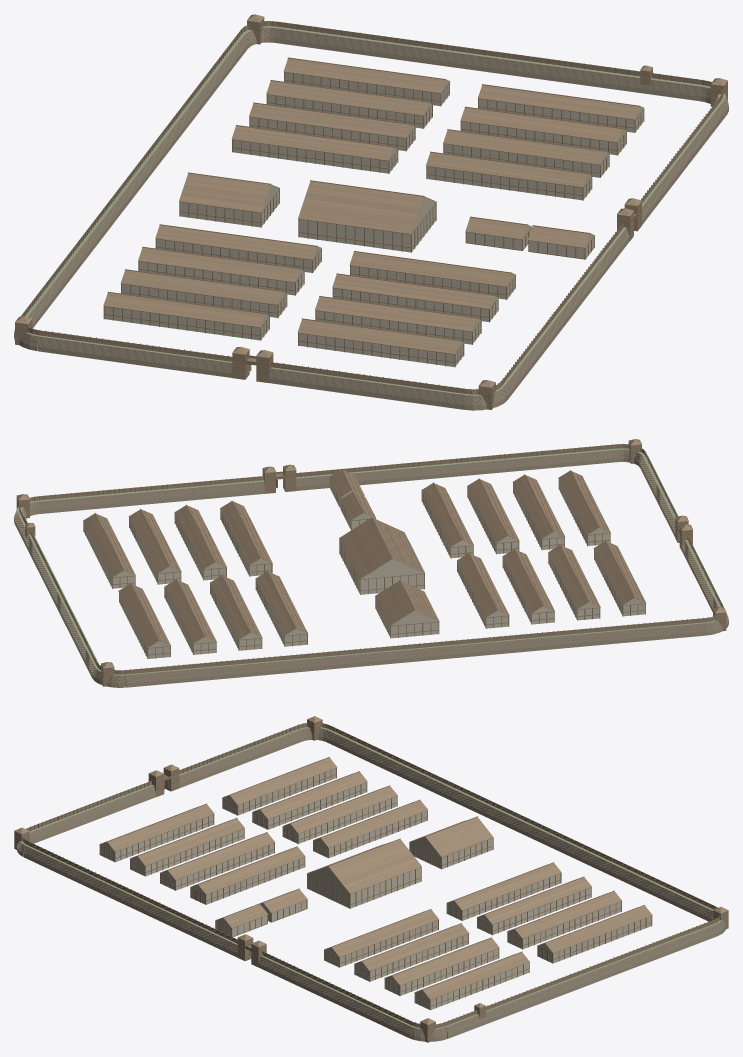
Rendered from roman-fort-a.near.glb.
3 views of the same model, one above another, from view 1: azimuth 30°, elevation 25°; view 2: azimuth 150°, elevation 25°; view 3: azimuth 270°, elevation 25° (orthographic). The views are drawn at different scales.
Visible parts, largest first — view 1: fort1/rampart-ne-0, fort1/principia-1, fort1/rampart-nw-1, fort1/barrack-16, fort1/barrack-1, fort1/barrack-15, fort1/barrack-2, fort1/praetorium-1, fort1/barrack-13, fort1/barrack-14, fort1/barrack-6, fort1/barrack-11 (+19 smaller); view 2: fort1/rampart-nw-1, fort1/principia-1, fort1/rampart-se-4, fort1/rampart-se-5, fort1/breastwork-nw-1, fort1/praetorium-1, fort1/rampart-ne-0, fort1/barrack-13, fort1/barrack-5, fort1/barrack-3, fort1/barrack-9, fort1/barrack-11 (+18 smaller); view 3: fort1/rampart-nw-1, fort1/principia-1, fort1/rampart-ne-0, fort1/rampart-se-4, fort1/praetorium-1, fort1/barrack-7, fort1/barrack-13, fort1/barrack-10, fort1/barrack-1, fort1/barrack-11, fort1/barrack-16, fort1/barrack-6 (+20 smaller).
Boxes of the visible parts, left/top/right/bottom form: fort1/rampart-ne-0: left=242, top=26, right=702, bottom=101; fort1/principia-1: left=298, top=180, right=436, bottom=252; fort1/rampart-nw-1: left=14, top=34, right=247, bottom=350; fort1/barrack-16: left=297, top=318, right=464, bottom=367; fort1/barrack-1: left=231, top=125, right=398, bottom=173; fort1/barrack-15: left=103, top=291, right=269, bottom=340; fort1/barrack-2: left=426, top=151, right=592, bottom=200; fort1/praetorium-1: left=179, top=172, right=279, bottom=227; fort1/barrack-13: left=120, top=269, right=287, bottom=318; fort1/barrack-14: left=315, top=296, right=481, bottom=344; fort1/barrack-6: left=460, top=106, right=626, bottom=155; fort1/barrack-11: left=138, top=246, right=304, bottom=295; fort1/rampart-nw-1: left=125, top=612, right=728, bottom=687; fort1/principia-1: left=339, top=517, right=425, bottom=594; fort1/rampart-se-4: left=296, top=448, right=618, bottom=490; fort1/rampart-se-5: left=14, top=480, right=264, bottom=523; fort1/breastwork-nw-1: left=125, top=606, right=723, bottom=674; fort1/praetorium-1: left=375, top=580, right=439, bottom=638; fort1/rampart-ne-0: left=14, top=512, right=125, bottom=687; fort1/barrack-13: left=548, top=544, right=600, bottom=620; fort1/barrack-5: left=164, top=579, right=216, bottom=654; fort1/barrack-3: left=210, top=575, right=262, bottom=650; fort1/barrack-9: left=457, top=552, right=509, bottom=628; fort1/barrack-11: left=502, top=548, right=554, bottom=624; fort1/rampart-nw-1: left=299, top=727, right=713, bottom=921; fort1/principia-1: left=307, top=838, right=421, bottom=908; fort1/rampart-ne-0: left=445, top=911, right=725, bottom=1038; fort1/rampart-se-4: left=24, top=845, right=237, bottom=957; fort1/praetorium-1: left=409, top=816, right=493, bottom=869; fort1/barrack-7: left=537, top=905, right=652, bottom=963; fort1/barrack-13: left=252, top=771, right=367, bottom=829; fort1/barrack-10: left=190, top=846, right=305, bottom=904; fort1/barrack-1: left=446, top=862, right=561, bottom=920; fort1/barrack-11: left=282, top=785, right=397, bottom=844; fort1/barrack-16: left=99, top=803, right=214, bottom=862; fort1/barrack-6: left=384, top=937, right=499, bottom=995.
Size of the model in its own units: 275 by 13.68 by 269.
